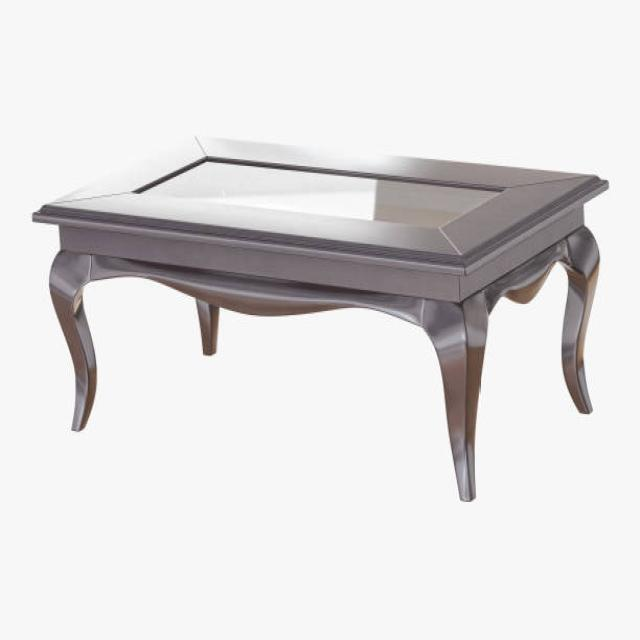table: (31, 131, 609, 501)
